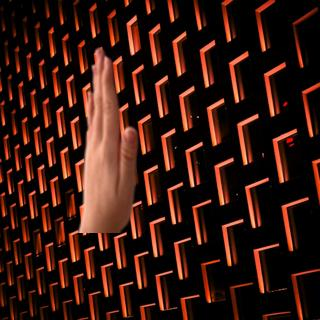Right: (79, 48, 137, 226)
